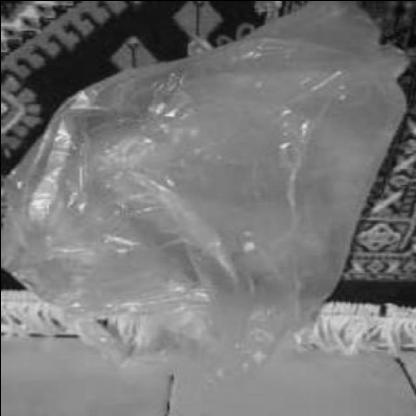objects: (0, 30, 416, 390)
